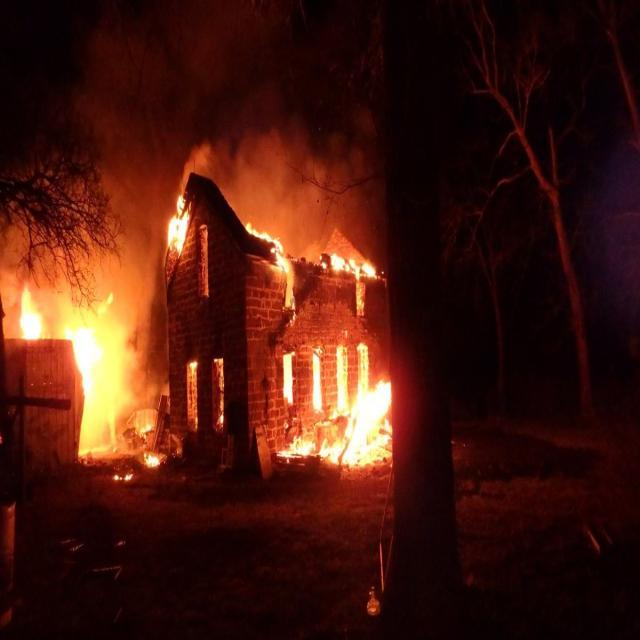Fire: (339, 388, 422, 480), (72, 332, 118, 455), (338, 240, 384, 294), (20, 294, 52, 364), (164, 204, 204, 253)
Smoke: (72, 0, 386, 251)
